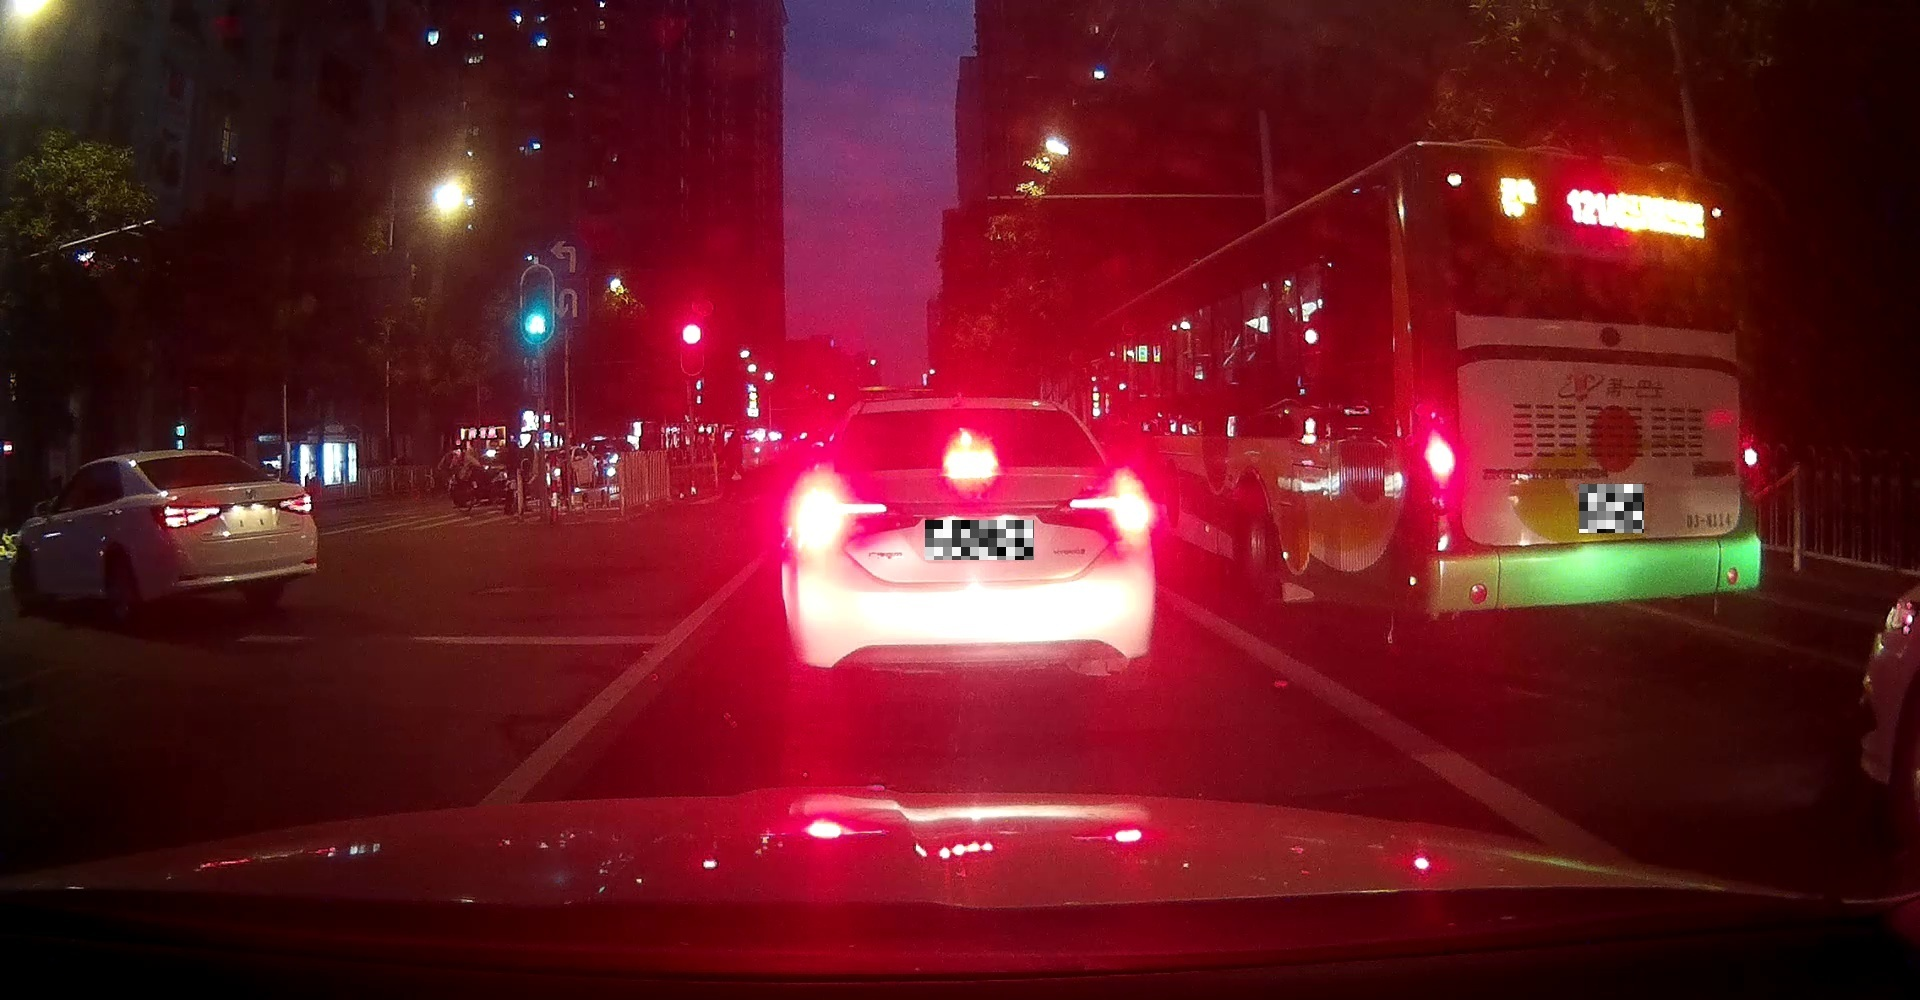L_light: (786, 492, 922, 541), (1423, 428, 1457, 513), (149, 503, 221, 529)
R_light: (1037, 495, 1152, 536), (1738, 429, 1759, 489), (278, 492, 312, 515)
T_light: (943, 459, 998, 472), (1577, 169, 1632, 180), (174, 456, 202, 459)
night-brake: (781, 396, 1154, 697)
night-left: (135, 449, 317, 628)
night-no: (1416, 141, 1761, 648)
plate_1: (924, 520, 1034, 560)
plate_2: (1578, 484, 1644, 533)
